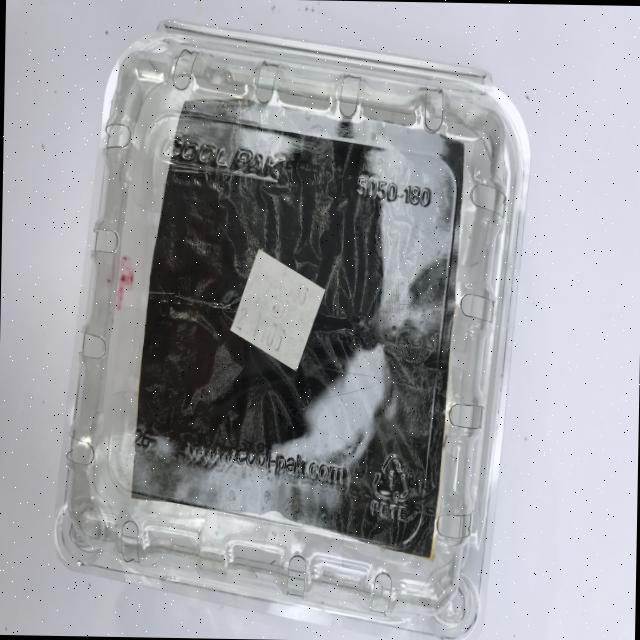plastic: (51, 18, 532, 639)
